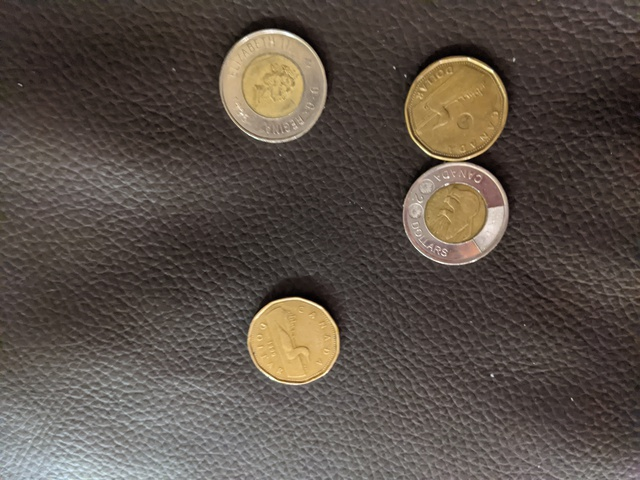loonie: (405, 60, 517, 161), (245, 289, 339, 384)
twonie: (202, 27, 337, 138), (392, 156, 514, 263)
